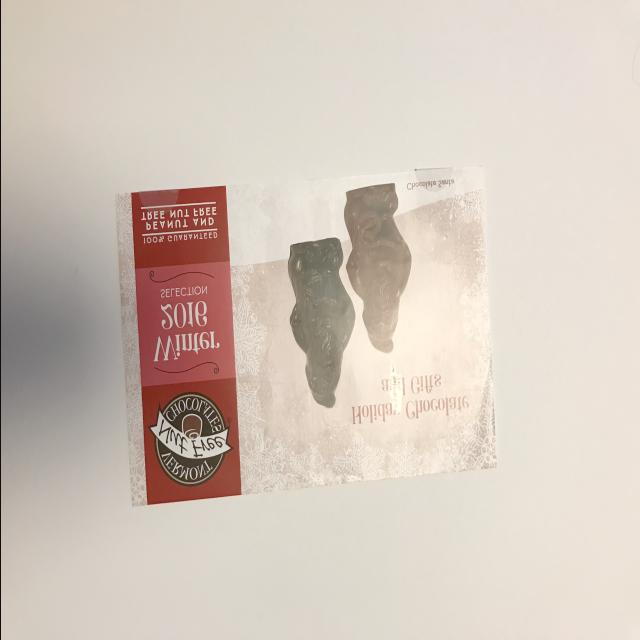Paper: (117, 153, 500, 510)
